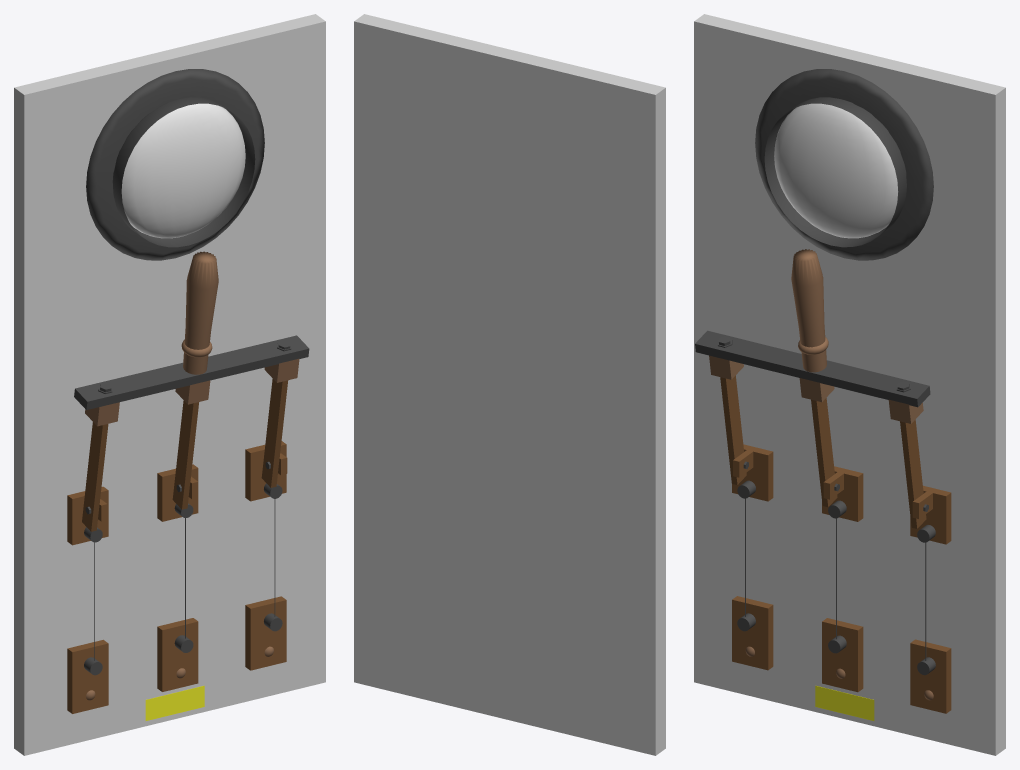
The model's file is Levier.fbx.
3 renders of one model, left to right at view 1: azimuth 30°, elevation 25°; view 2: azimuth 150°, elevation 25°; view 3: azimuth 330°, elevation 25°, orthographic.
Visible parts, largest first — view 1: pCylinder16; view 2: pCylinder16; view 3: pCylinder16.
Part boxes in pixels (x1,y1,x2,y2): pCylinder16: [14, 14, 325, 755]; pCylinder16: [354, 14, 665, 755]; pCylinder16: [694, 14, 1005, 755].
Size of the model in its own units: 1577 by 3302 by 460.
